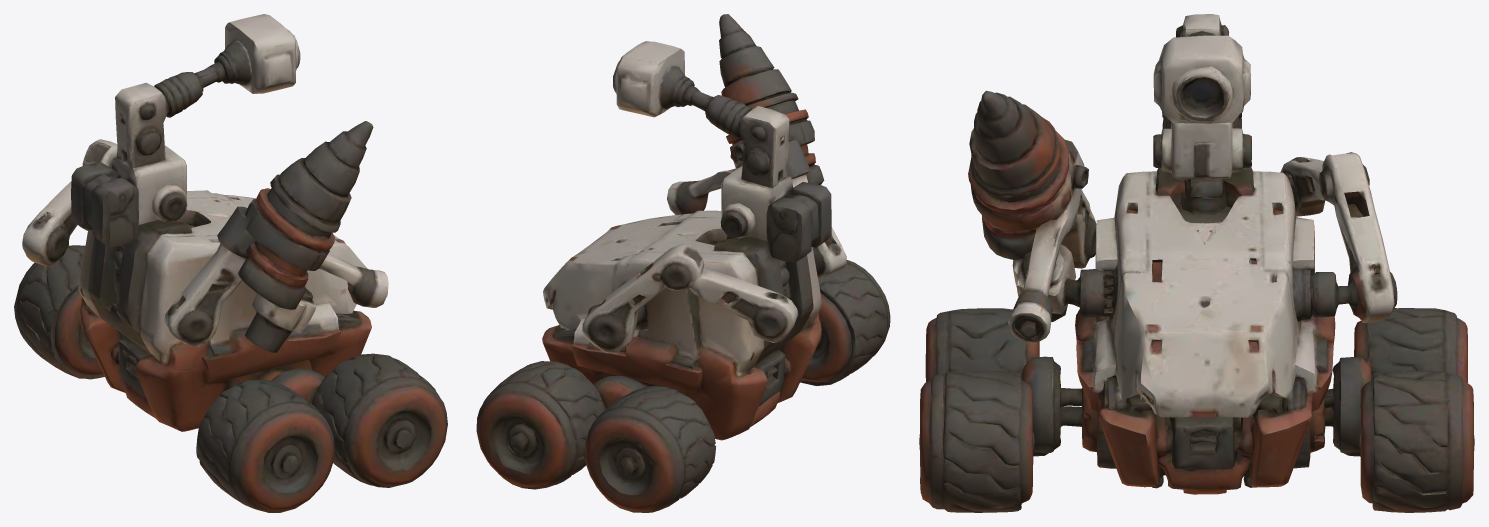
Rendered from rogueRover.glb.
3 renders of one model, left to right at view 1: azimuth 30°, elevation 25°; view 2: azimuth 150°, elevation 25°; view 3: azimuth 270°, elevation 25°, orthographic. The views are drawn at different scales.
Parts seen in each view (by area): view 1: geometry_0; view 2: geometry_0; view 3: geometry_0.
Boxes of the visible parts, x1=… form: geometry_0: x1=14, y1=14, x2=447, y2=512; geometry_0: x1=476, y1=14, x2=890, y2=512; geometry_0: x1=919, y1=14, x2=1474, y2=512.
Bounding box in the file's own units: 0.6904 × 0.8886 × 0.9999.
Materials: 1 (1 with a texture image).
